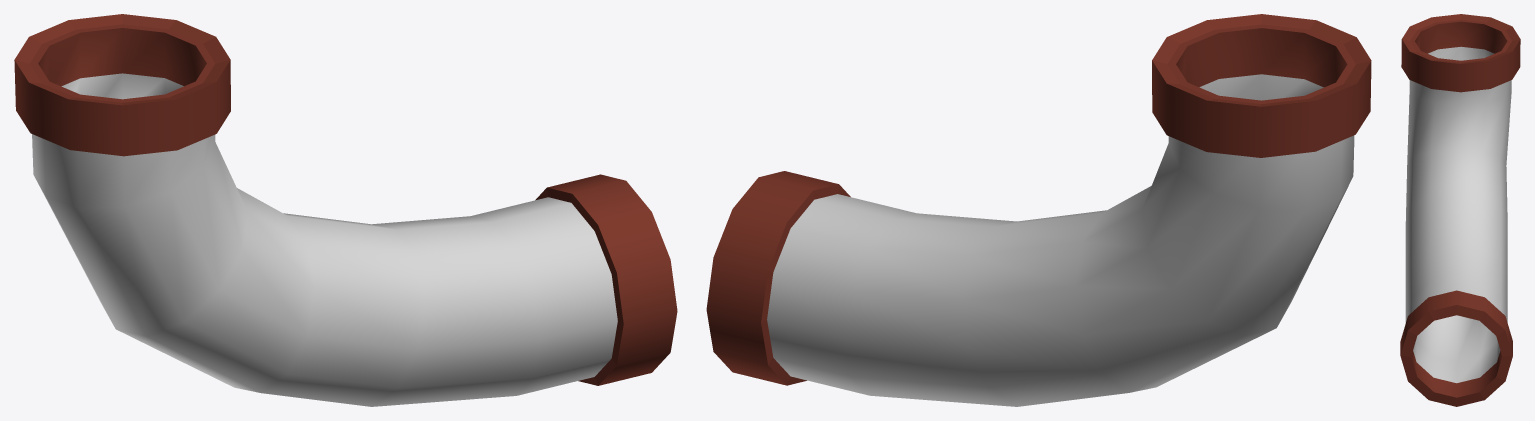
File: Curved_Pipe.fbx
3 views of the same model, side by side, from view 1: azimuth 30°, elevation 25°; view 2: azimuth 150°, elevation 25°; view 3: azimuth 270°, elevation 25° (orthographic). The views are drawn at different scales.
Visible parts, largest first — view 1: Cylinder.046; view 2: Cylinder.046; view 3: Cylinder.046.
Boxes of the visible parts, x1,y1,x2,y2 form: Cylinder.046: [14, 14, 677, 406]; Cylinder.046: [706, 14, 1371, 406]; Cylinder.046: [1400, 14, 1520, 406].
Bounding box in the file's own units: 155 × 106 × 49.37.
